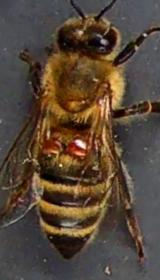varroa_mite: (38, 132, 67, 164), (65, 130, 93, 162)
